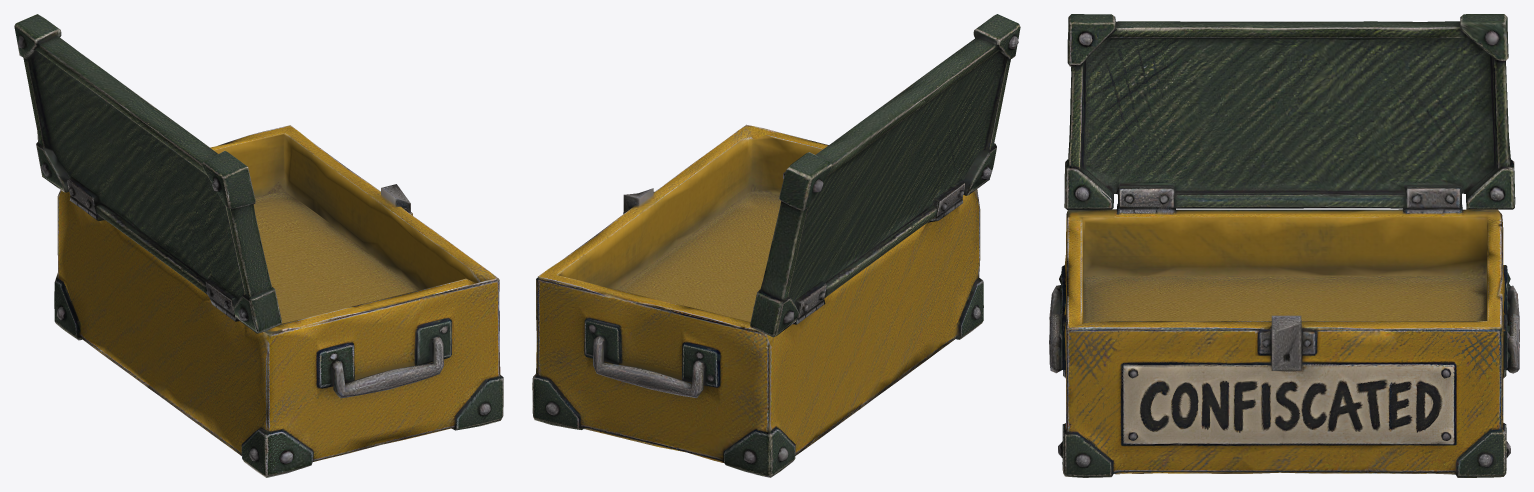
File: confiscated_box.fbx
The picture shows the model from 3 angles, left to right: view 1: azimuth 30°, elevation 25°; view 2: azimuth 150°, elevation 25°; view 3: azimuth 270°, elevation 25°; orthographic projection. The views are drawn at different scales.
Parts seen in each view (by area): view 1: tripo_node_6c2aff82-d70b-42ab-88d5-55917a983e3b; view 2: tripo_node_6c2aff82-d70b-42ab-88d5-55917a983e3b; view 3: tripo_node_6c2aff82-d70b-42ab-88d5-55917a983e3b.
Boxes of the visible parts, x1=… form: tripo_node_6c2aff82-d70b-42ab-88d5-55917a983e3b: x1=14, y1=14, x2=503, y2=477; tripo_node_6c2aff82-d70b-42ab-88d5-55917a983e3b: x1=532, y1=14, x2=1020, y2=477; tripo_node_6c2aff82-d70b-42ab-88d5-55917a983e3b: x1=1049, y1=14, x2=1519, y2=477.
Bounding box in the file's own units: 73.68 × 76.94 × 100.
Materials: 1 (1 with a texture image).
